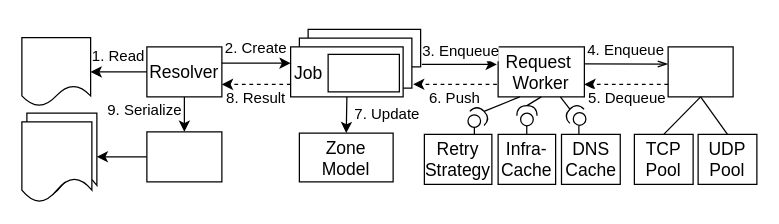
The diagram is 779 pixels wide and 224 high, and some of its shapes have lost their labels. The shapes that lost their labels are listed below. From the top down, each one's box as (x1, y1, x2, y2) in pixels, then its label:
(21, 36, 91, 106): Target List
(327, 53, 399, 92): Resolution Strategy
(667, 46, 733, 97): Client
(21, 121, 92, 202): Output (binary/ json)
(146, 131, 222, 182): Writer
